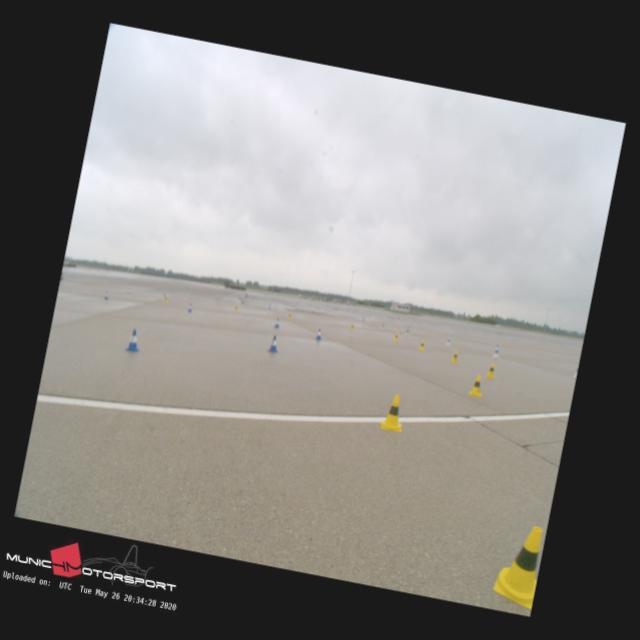blue_cone: (125, 329, 142, 352), (267, 334, 280, 352), (314, 328, 324, 340), (274, 318, 281, 329), (187, 303, 193, 312), (104, 291, 110, 300)
yellow_cone: (492, 520, 546, 610), (380, 392, 408, 432), (468, 374, 484, 397), (487, 362, 498, 378), (450, 351, 460, 364), (418, 340, 426, 350), (394, 332, 399, 342)
